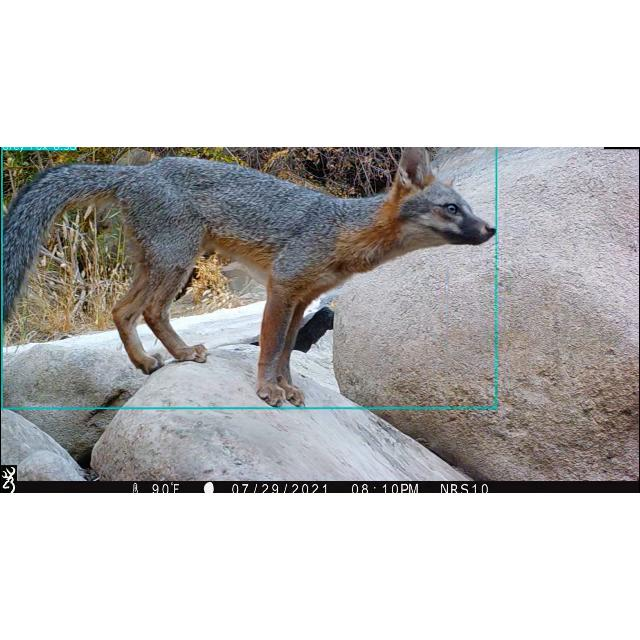animals: (1, 147, 497, 409)
